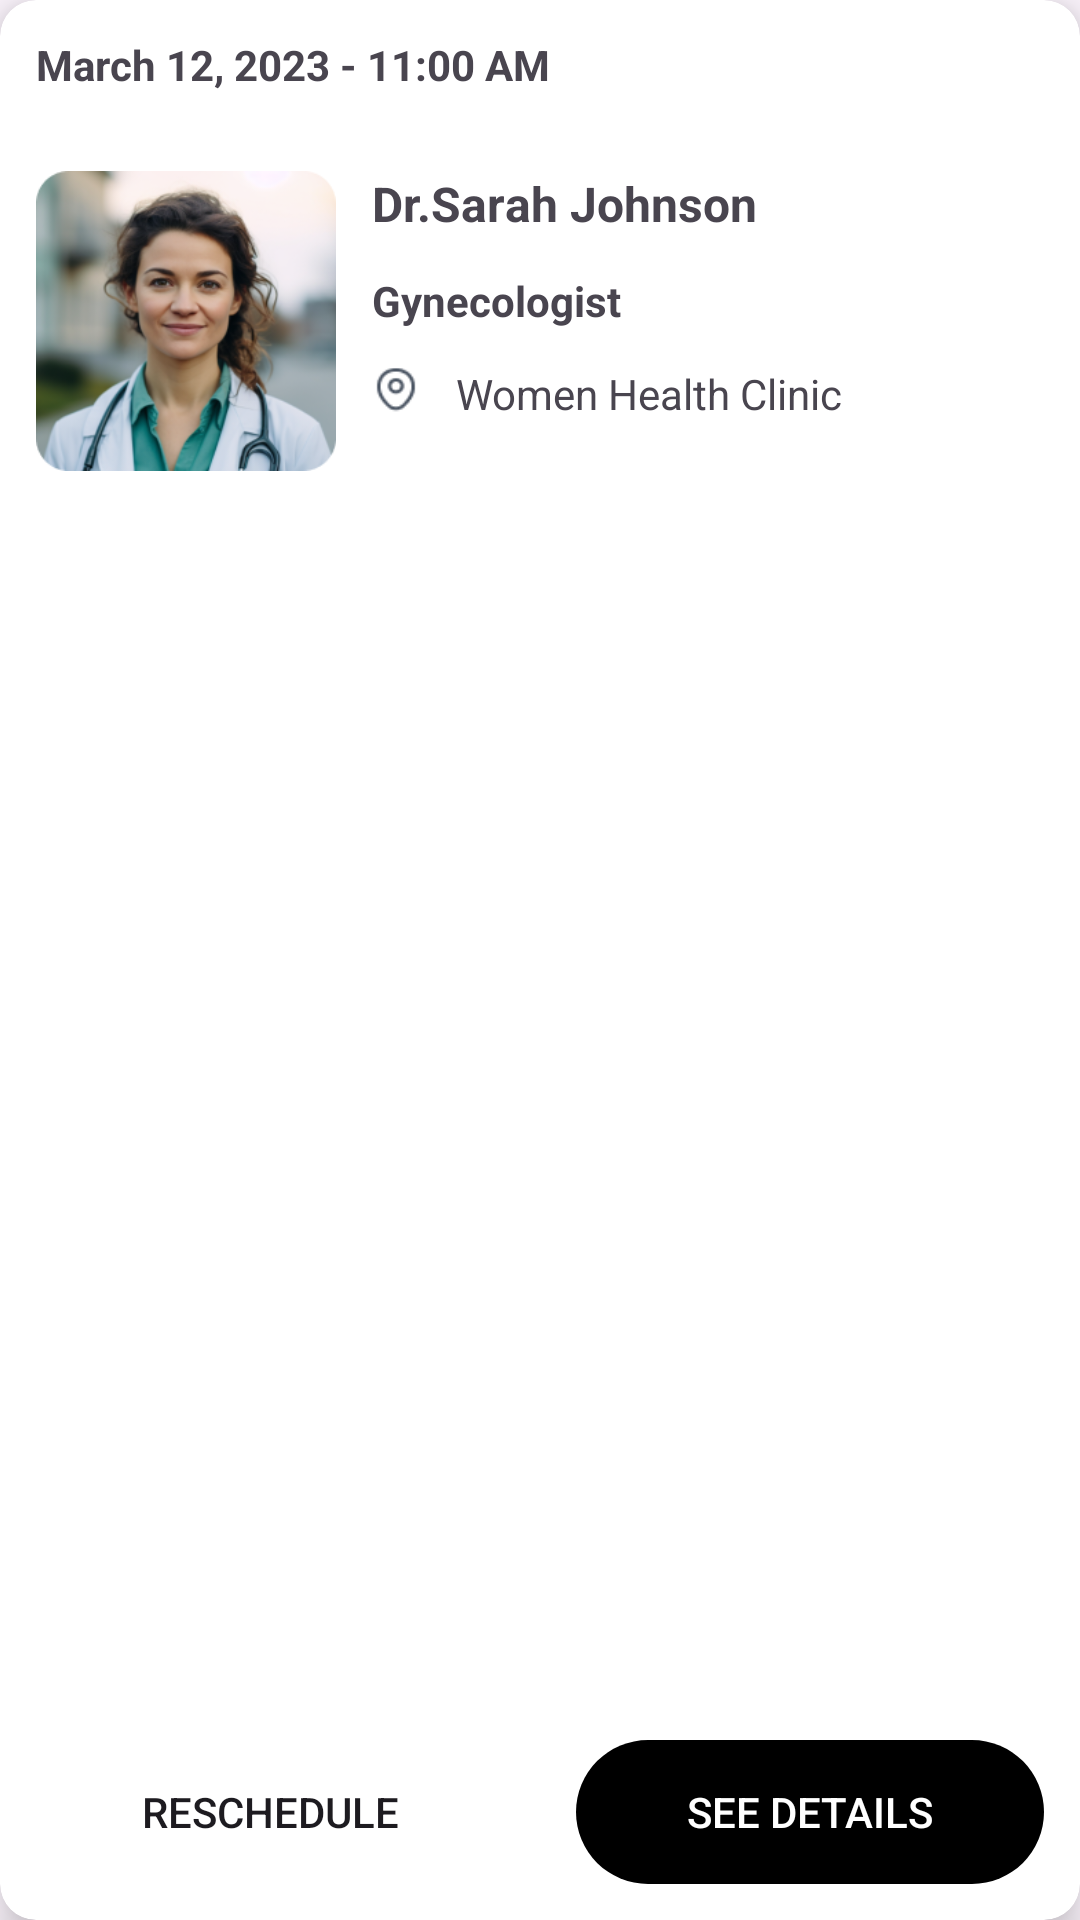

Named icons in this screenshot (1080*1920) and their centers, (x,y):
custom location: (396,389)
doctor: (186,321)
